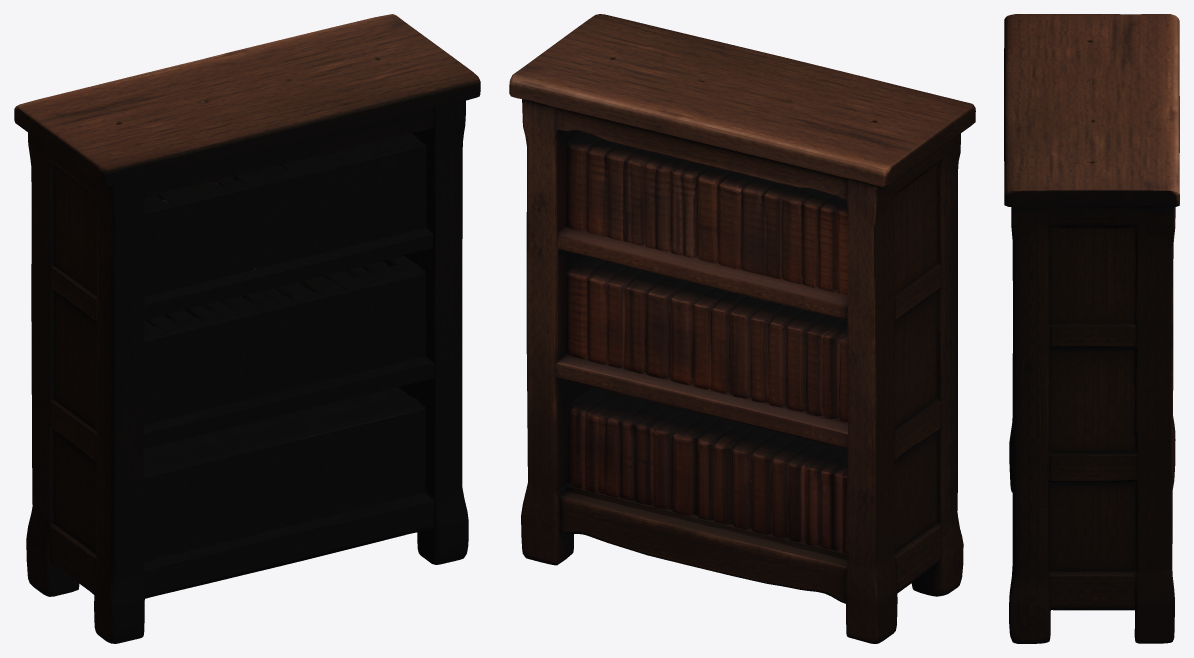
Rendered from bookshelf_wooden.glb.
The picture shows the model from 3 angles, left to right: view 1: azimuth 30°, elevation 25°; view 2: azimuth 150°, elevation 25°; view 3: azimuth 270°, elevation 25°; orthographic projection. The views are drawn at different scales.
Parts seen in each view (by area): view 1: world; view 2: world; view 3: world.
Boxes of the visible parts, x1,y1,x2,y2 form: world: [14, 14, 480, 643]; world: [509, 14, 975, 643]; world: [1004, 14, 1179, 643].
Bounding box in the file's own units: 0.8257 × 1 × 0.347.
1 material, 1 textured.
